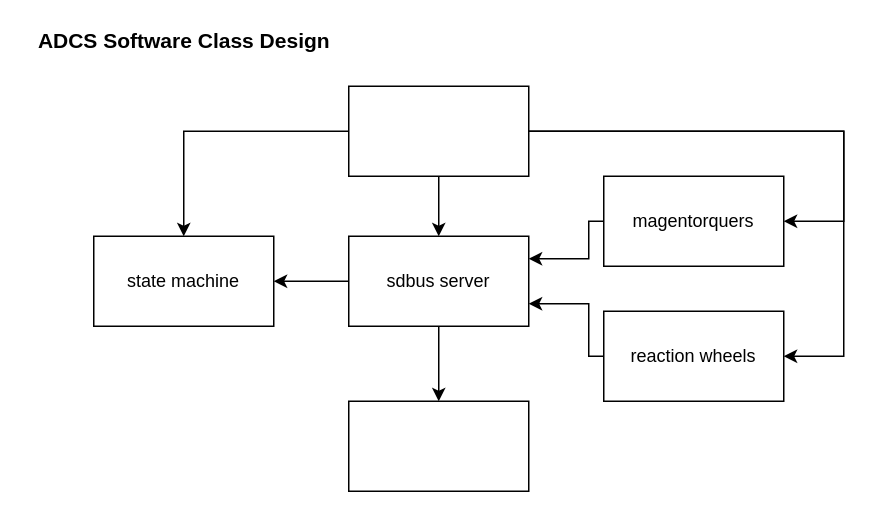
Image size: 882x518. Some labels were removed from this diagram. The shapes that lost their labels are listed below. From the top down, each one's box as (x1, y1, x2, y2) in pixels, then its label:
(347, 85, 529, 176): controller
(347, 400, 529, 491): ADCS data
